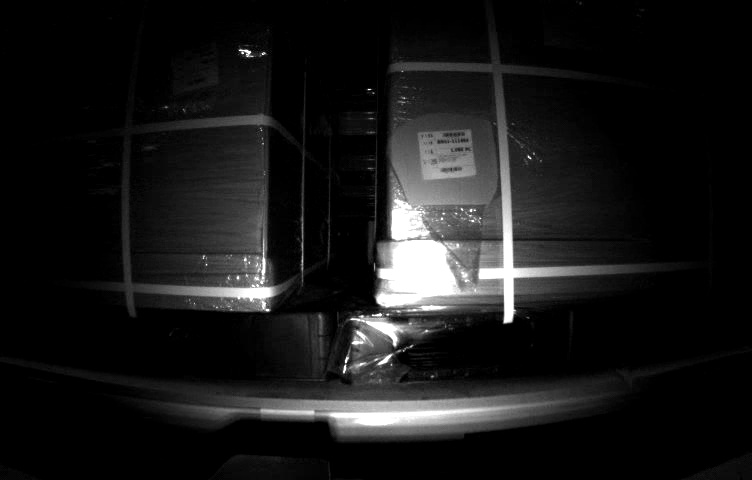True Barcode: (414, 123, 478, 179), (168, 43, 223, 88)
